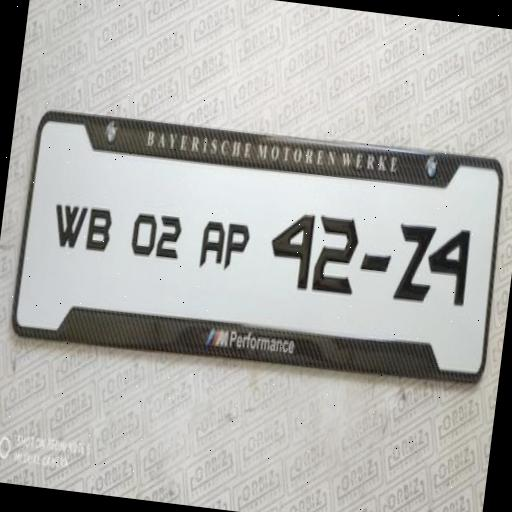number plate: (16, 120, 506, 382)
